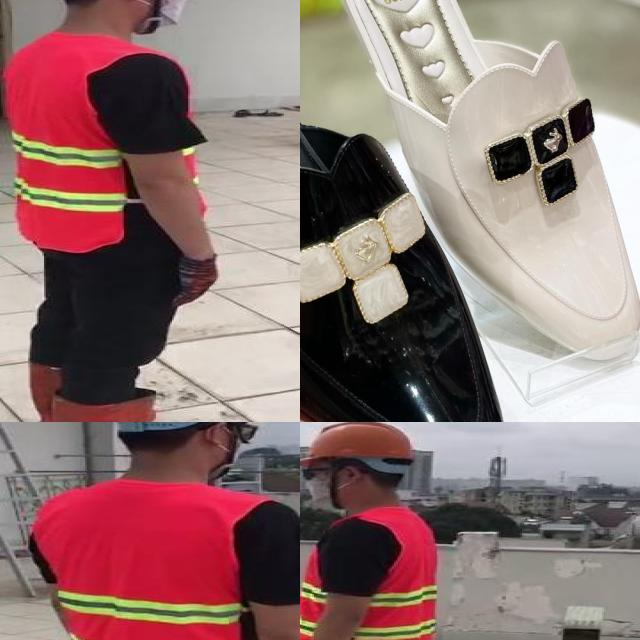Sandals: (337, 0, 640, 377), (300, 0, 525, 422)
boots: (28, 360, 108, 422), (54, 392, 211, 422)
face_mask: (127, 0, 205, 28)
hand_glove: (176, 255, 217, 309)
head_helmet: (300, 422, 416, 465)
person: (0, 0, 263, 422), (20, 422, 300, 640), (300, 422, 450, 640)
vest: (1, 34, 208, 252), (33, 482, 260, 640), (300, 507, 436, 640)
